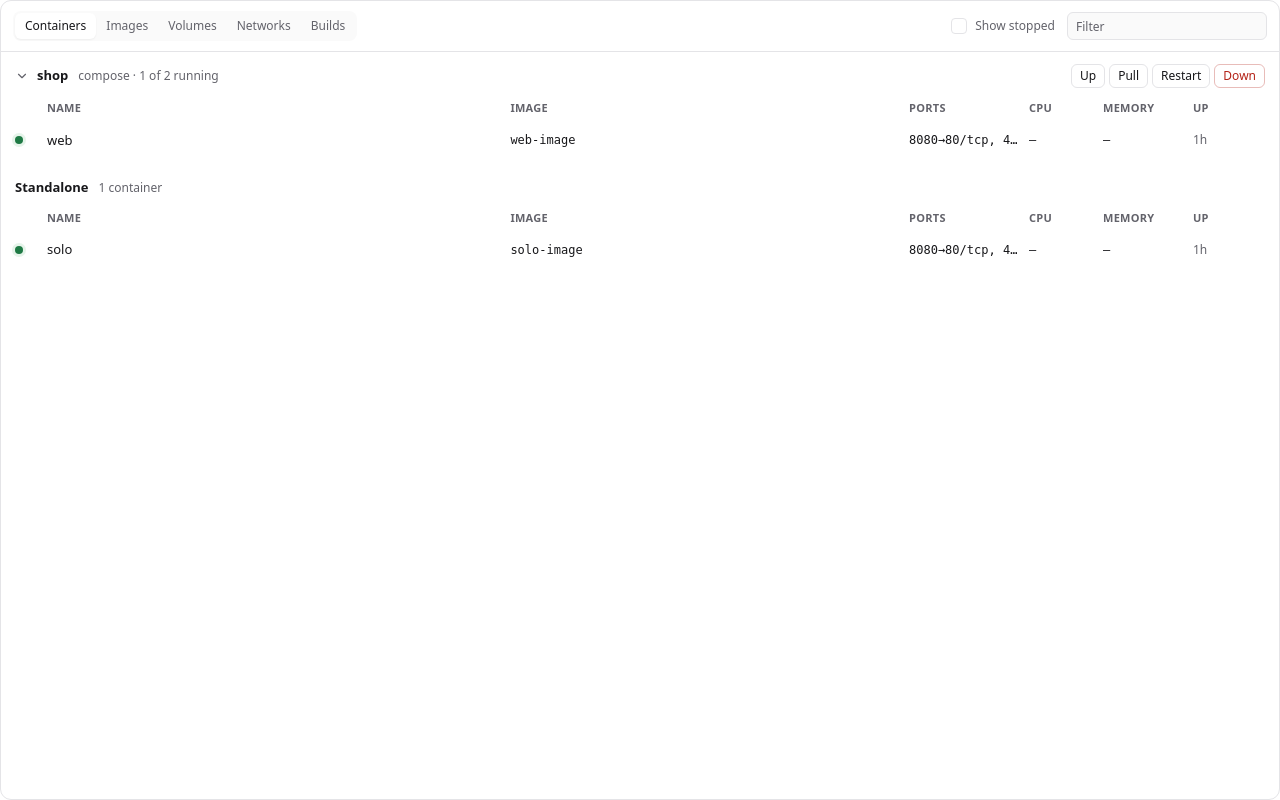
it: ContainersView › says when filters hide every row
The image size is (1280, 800).
Expected: the button "web" is shown, [47, 130, 500, 150]
Type "zzz" into the field named "Filter containers" at [1167, 26], box [1067, 12, 1267, 40]
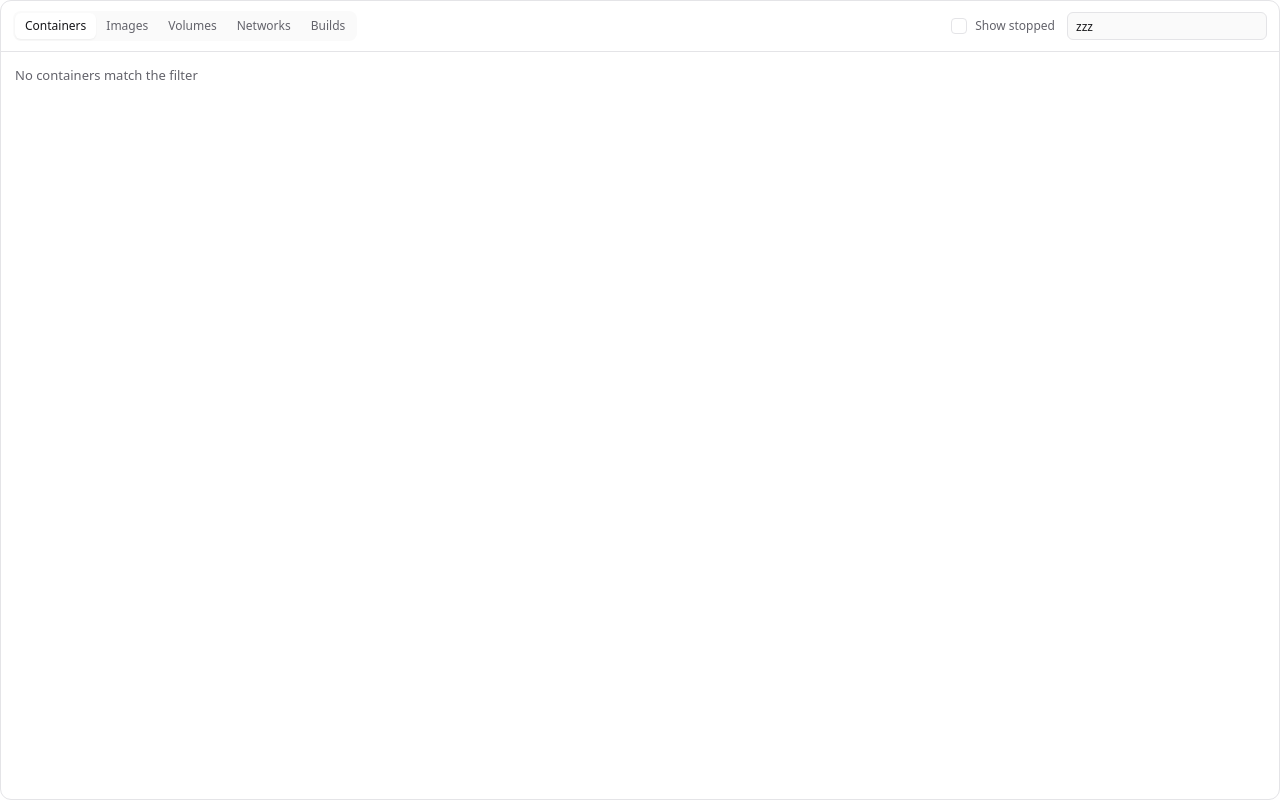
Expected: the text "No containers match the filter" is shown, [15, 66, 198, 84]
